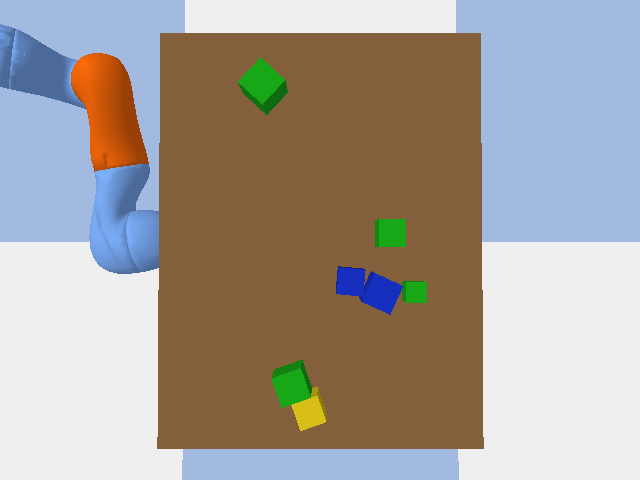blue_obj: (359, 271, 402, 314), (336, 266, 365, 296)
green_obj: (238, 57, 287, 114), (271, 360, 311, 407), (375, 219, 405, 246), (402, 281, 426, 302)
yellow_obj: (291, 386, 326, 430)
